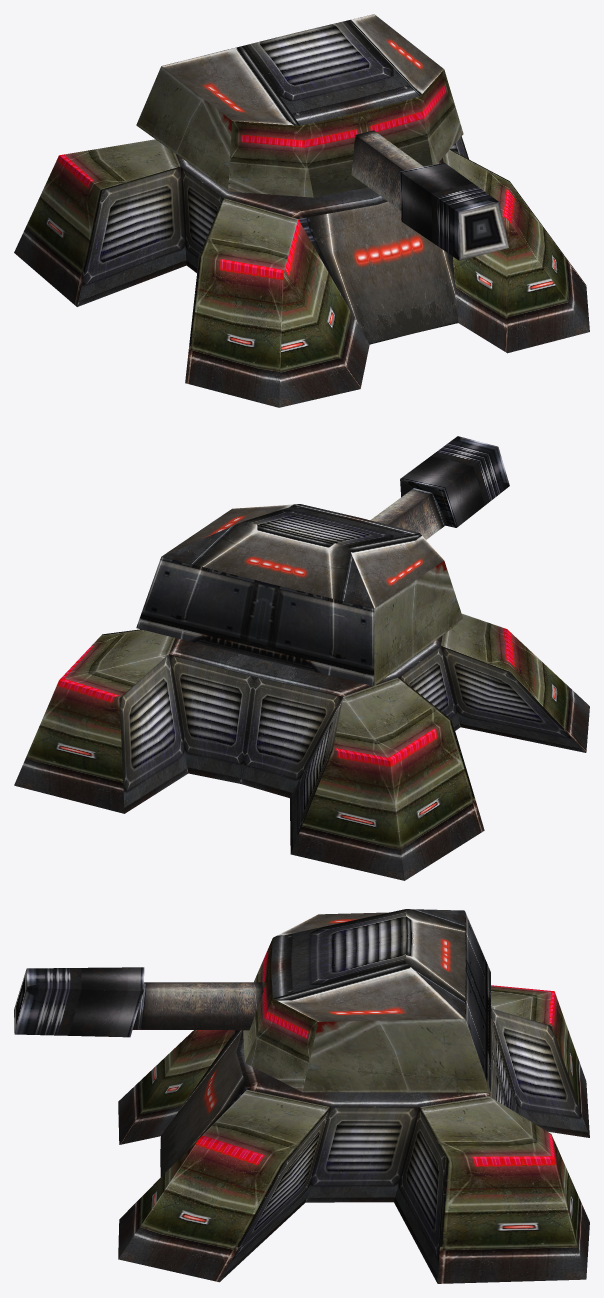
Rendered from upgraded_turret.fbx.
3 views of the same model, one above another, from view 1: azimuth 30°, elevation 25°; view 2: azimuth 150°, elevation 25°; view 3: azimuth 270°, elevation 25° (orthographic). The views are drawn at different scales.
Parts seen in each view (by area): view 1: turrets_all_centered_turret_17; view 2: turrets_all_centered_turret_17; view 3: turrets_all_centered_turret_17.
Boxes of the visible parts, <box> form: turrets_all_centered_turret_17: <box>14,14,589,407</box>; turrets_all_centered_turret_17: <box>14,436,589,880</box>; turrets_all_centered_turret_17: <box>14,909,589,1283</box>.
Bounding box in the file's own units: 1.4 × 0.7783 × 1.65.
Materials: 1 (1 with a texture image).
